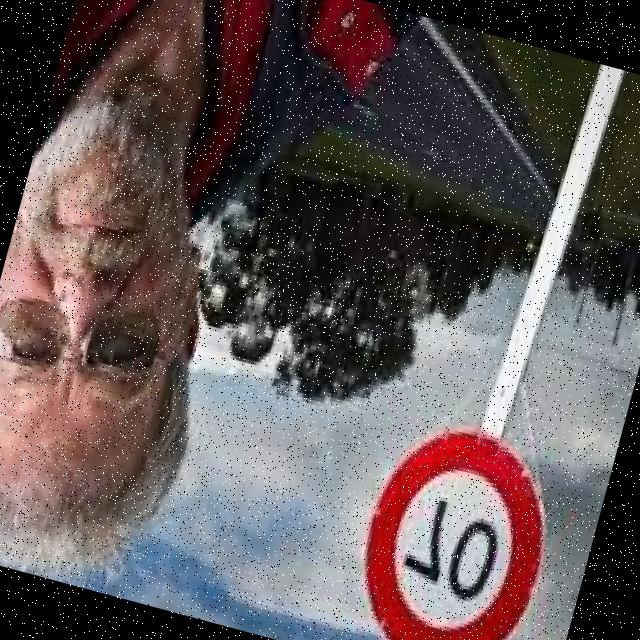speed_limit_70: (323, 409, 578, 640)
